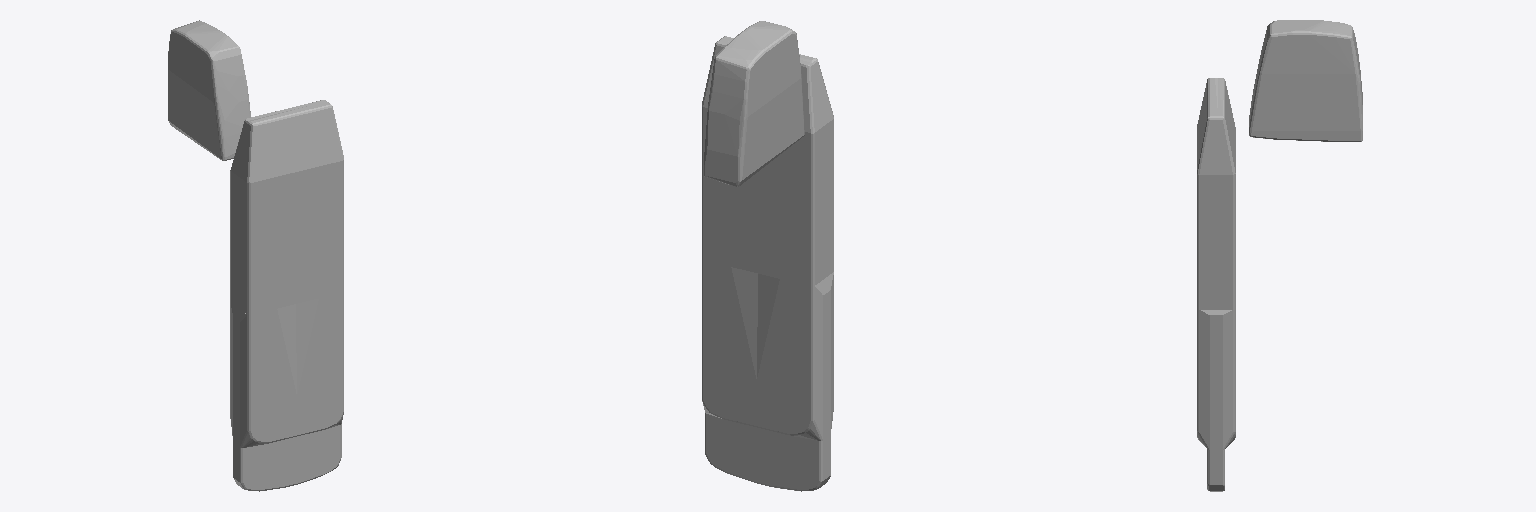
The robot description file, URDF, robot "root":
<robot name="root">
  <link name="link_coacd_convex_piece_0">
    <inertial>
      <origin xyz="0 0 0" rpy="0 0 0"/>
      <inertia ixx="8.29E-03" ixy="-1.34E-03" ixz="-3.63E-04" iyy="2.88E-04" iyz="-1.72E-03" izz="7.76E-03"/>
    </inertial>
    <visual>
      <origin xyz="0 0 0" rpy="0 0 0"/>
      <geometry>
        <mesh filename="coacd_convex_piece_0.obj" scale="1.0000E+00 1.0000E+00 1.0000E+00"/>
      </geometry>
      <material name="">
        <color rgba="7.50E-01 7.50E-01 7.50E-01 1"/>
      </material>
    </visual>
    <collision>
      <origin xyz="0 0 0" rpy="0 0 0"/>
      <geometry>
        <mesh filename="coacd_convex_piece_0.obj" scale="1.0000E+00 1.0000E+00 1.0000E+00"/>
      </geometry>
    </collision>
  </link>
  <link name="link_coacd_convex_piece_1">
    <inertial>
      <origin xyz="0 0 0" rpy="0 0 0"/>
      <inertia ixx="2.61E-03" ixy="-1.32E-03" ixz="2.87E-04" iyy="5.77E-04" iyz="5.85E-04" izz="2.78E-03"/>
    </inertial>
    <visual>
      <origin xyz="0 0 0" rpy="0 0 0"/>
      <geometry>
        <mesh filename="coacd_convex_piece_1.obj" scale="1.0000E+00 1.0000E+00 1.0000E+00"/>
      </geometry>
      <material name="">
        <color rgba="7.50E-01 7.50E-01 7.50E-01 1"/>
      </material>
    </visual>
    <collision>
      <origin xyz="0 0 0" rpy="0 0 0"/>
      <geometry>
        <mesh filename="coacd_convex_piece_1.obj" scale="1.0000E+00 1.0000E+00 1.0000E+00"/>
      </geometry>
    </collision>
  </link>
  <joint name="link_coacd_convex_piece_1_joint" type="fixed">
    <origin xyz="0 0 0" rpy="0 0 0"/>
    <parent link="link_coacd_convex_piece_0"/>
    <child link="link_coacd_convex_piece_1"/>
  </joint>
  <link name="link_coacd_convex_piece_2">
    <inertial>
      <origin xyz="0 0 0" rpy="0 0 0"/>
      <inertia ixx="2.82E-03" ixy="-8.60E-04" ixz="-2.08E-05" iyy="1.86E-04" iyz="3.86E-06" izz="2.87E-03"/>
    </inertial>
    <visual>
      <origin xyz="0 0 0" rpy="0 0 0"/>
      <geometry>
        <mesh filename="coacd_convex_piece_2.obj" scale="1.0000E+00 1.0000E+00 1.0000E+00"/>
      </geometry>
      <material name="">
        <color rgba="7.50E-01 7.50E-01 7.50E-01 1"/>
      </material>
    </visual>
    <collision>
      <origin xyz="0 0 0" rpy="0 0 0"/>
      <geometry>
        <mesh filename="coacd_convex_piece_2.obj" scale="1.0000E+00 1.0000E+00 1.0000E+00"/>
      </geometry>
    </collision>
  </link>
  <joint name="link_coacd_convex_piece_2_joint" type="fixed">
    <origin xyz="0 0 0" rpy="0 0 0"/>
    <parent link="link_coacd_convex_piece_1"/>
    <child link="link_coacd_convex_piece_2"/>
  </joint>
  <link name="link_coacd_convex_piece_3">
    <inertial>
      <origin xyz="0 0 0" rpy="0 0 0"/>
      <inertia ixx="2.17E-03" ixy="1.10E-03" ixz="-8.58E-05" iyy="1.01E-03" iyz="2.01E-05" izz="2.68E-03"/>
    </inertial>
    <visual>
      <origin xyz="0 0 0" rpy="0 0 0"/>
      <geometry>
        <mesh filename="coacd_convex_piece_3.obj" scale="1.0000E+00 1.0000E+00 1.0000E+00"/>
      </geometry>
      <material name="">
        <color rgba="7.50E-01 7.50E-01 7.50E-01 1"/>
      </material>
    </visual>
    <collision>
      <origin xyz="0 0 0" rpy="0 0 0"/>
      <geometry>
        <mesh filename="coacd_convex_piece_3.obj" scale="1.0000E+00 1.0000E+00 1.0000E+00"/>
      </geometry>
    </collision>
  </link>
  <joint name="link_coacd_convex_piece_3_joint" type="fixed">
    <origin xyz="0 0 0" rpy="0 0 0"/>
    <parent link="link_coacd_convex_piece_2"/>
    <child link="link_coacd_convex_piece_3"/>
  </joint>
  <link name="link_coacd_convex_piece_4">
    <inertial>
      <origin xyz="0 0 0" rpy="0 0 0"/>
      <inertia ixx="1.68E-03" ixy="6.35E-04" ixz="-6.84E-05" iyy="3.43E-04" iyz="1.60E-05" izz="1.62E-03"/>
    </inertial>
    <visual>
      <origin xyz="0 0 0" rpy="0 0 0"/>
      <geometry>
        <mesh filename="coacd_convex_piece_4.obj" scale="1.0000E+00 1.0000E+00 1.0000E+00"/>
      </geometry>
      <material name="">
        <color rgba="7.50E-01 7.50E-01 7.50E-01 1"/>
      </material>
    </visual>
    <collision>
      <origin xyz="0 0 0" rpy="0 0 0"/>
      <geometry>
        <mesh filename="coacd_convex_piece_4.obj" scale="1.0000E+00 1.0000E+00 1.0000E+00"/>
      </geometry>
    </collision>
  </link>
  <joint name="link_coacd_convex_piece_4_joint" type="fixed">
    <origin xyz="0 0 0" rpy="0 0 0"/>
    <parent link="link_coacd_convex_piece_3"/>
    <child link="link_coacd_convex_piece_4"/>
  </joint>
  <link name="link_coacd_convex_piece_5">
    <inertial>
      <origin xyz="0 0 0" rpy="0 0 0"/>
      <inertia ixx="2.61E-03" ixy="-1.32E-03" ixz="-4.12E-04" iyy="5.77E-04" iyz="-5.64E-04" izz="2.77E-03"/>
    </inertial>
    <visual>
      <origin xyz="0 0 0" rpy="0 0 0"/>
      <geometry>
        <mesh filename="coacd_convex_piece_5.obj" scale="1.0000E+00 1.0000E+00 1.0000E+00"/>
      </geometry>
      <material name="">
        <color rgba="7.50E-01 7.50E-01 7.50E-01 1"/>
      </material>
    </visual>
    <collision>
      <origin xyz="0 0 0" rpy="0 0 0"/>
      <geometry>
        <mesh filename="coacd_convex_piece_5.obj" scale="1.0000E+00 1.0000E+00 1.0000E+00"/>
      </geometry>
    </collision>
  </link>
  <joint name="link_coacd_convex_piece_5_joint" type="fixed">
    <origin xyz="0 0 0" rpy="0 0 0"/>
    <parent link="link_coacd_convex_piece_4"/>
    <child link="link_coacd_convex_piece_5"/>
  </joint>
</robot>

--- What the picture shows (computed from the rendered views, not written in the file) ---
The picture shows the robot from 3 angles, left to right: view 1: azimuth 30°, elevation 25°; view 2: azimuth 150°, elevation 25°; view 3: azimuth 270°, elevation 25°; orthographic projection.
Model root with 6 links and 5 joints (5 fixed), rooted at link_coacd_convex_piece_0, posed every joint at zero.
Links seen in each view (by area): view 1: link_coacd_convex_piece_3, link_coacd_convex_piece_1, link_coacd_convex_piece_0, link_coacd_convex_piece_5, link_coacd_convex_piece_2, link_coacd_convex_piece_4; view 2: link_coacd_convex_piece_4, link_coacd_convex_piece_0, link_coacd_convex_piece_1, link_coacd_convex_piece_5, link_coacd_convex_piece_2, link_coacd_convex_piece_3; view 3: link_coacd_convex_piece_0, link_coacd_convex_piece_5, link_coacd_convex_piece_3, link_coacd_convex_piece_4, link_coacd_convex_piece_2.
Boxes of the visible links, left/top/right/bottom form: link_coacd_convex_piece_3: left=238, top=101, right=343, bottom=314; link_coacd_convex_piece_1: left=230, top=302, right=296, bottom=447; link_coacd_convex_piece_0: left=168, top=20, right=250, bottom=160; link_coacd_convex_piece_5: left=296, top=292, right=343, bottom=435; link_coacd_convex_piece_2: left=233, top=424, right=341, bottom=491; link_coacd_convex_piece_4: left=230, top=100, right=325, bottom=307; link_coacd_convex_piece_4: left=702, top=40, right=822, bottom=285; link_coacd_convex_piece_0: left=704, top=21, right=804, bottom=186; link_coacd_convex_piece_1: left=757, top=272, right=833, bottom=440; link_coacd_convex_piece_5: left=702, top=260, right=757, bottom=426; link_coacd_convex_piece_2: left=705, top=413, right=830, bottom=491; link_coacd_convex_piece_3: left=720, top=36, right=833, bottom=279; link_coacd_convex_piece_0: left=1249, top=20, right=1362, bottom=141; link_coacd_convex_piece_5: left=1197, top=309, right=1235, bottom=449; link_coacd_convex_piece_3: left=1197, top=78, right=1217, bottom=309; link_coacd_convex_piece_4: left=1218, top=78, right=1235, bottom=309; link_coacd_convex_piece_2: left=1207, top=449, right=1224, bottom=491.
Bounding box of the posed robot: 0.4682 × 0.6514 × 1.87 m (x, y, z).
Meshes: 6 distinct files referenced, 6 mesh visuals loaded (6 OBJ).
